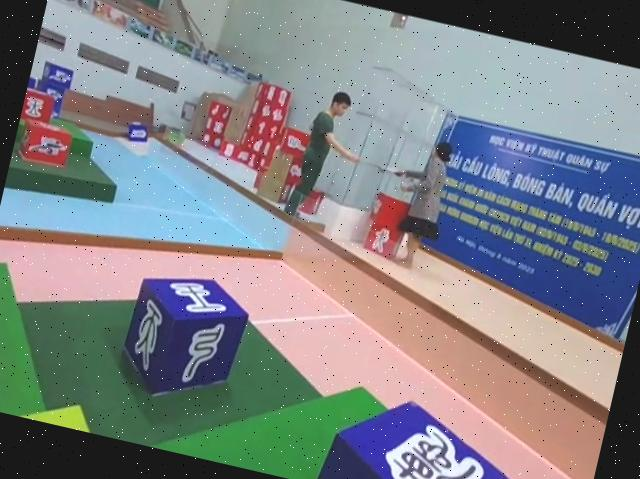R2 Fake Blue: (113, 265, 255, 415), (319, 384, 536, 479)
